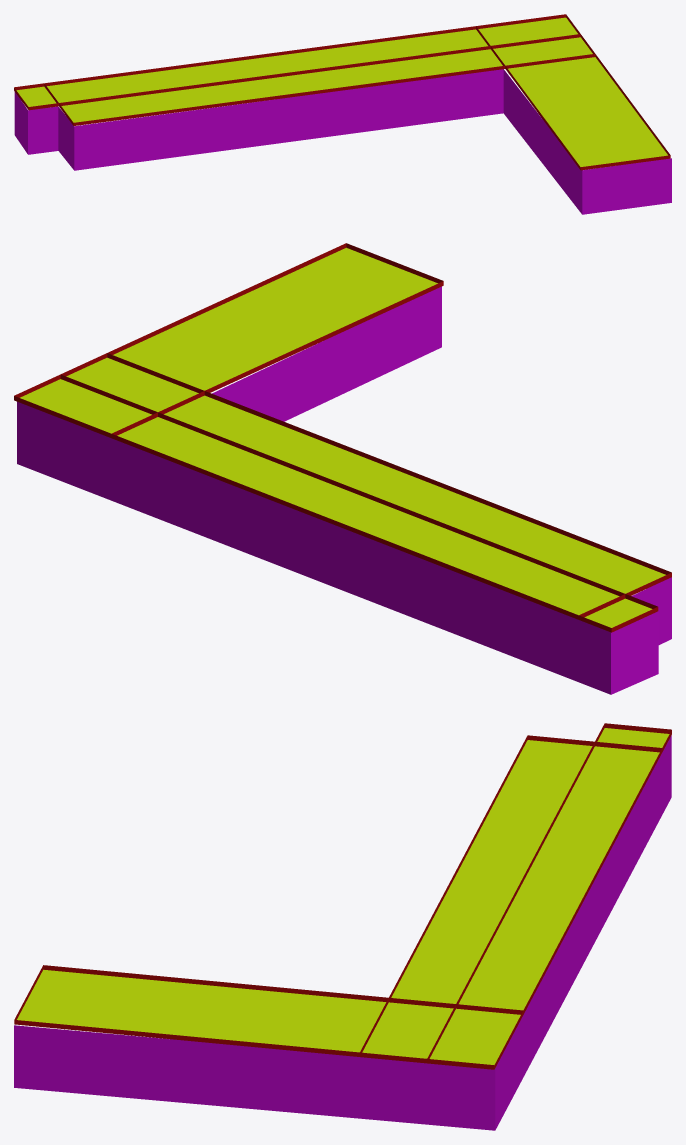
The model's file is bgj_406.glb.
The picture shows the model from 3 angles, top to bottom: view 1: azimuth 30°, elevation 25°; view 2: azimuth 150°, elevation 25°; view 3: azimuth 270°, elevation 25°; orthographic projection. The views are drawn at different scales.
Parts seen in each view (by area): view 1: bgj_406; view 2: bgj_406; view 3: bgj_406.
Part boxes in pixels (x1,y1,x2,y2): bgj_406: [14, 14, 671, 214]; bgj_406: [14, 243, 671, 694]; bgj_406: [14, 723, 671, 1130].
Bounding box in the file's own units: 55.42 × 5.07 × 45.03.
